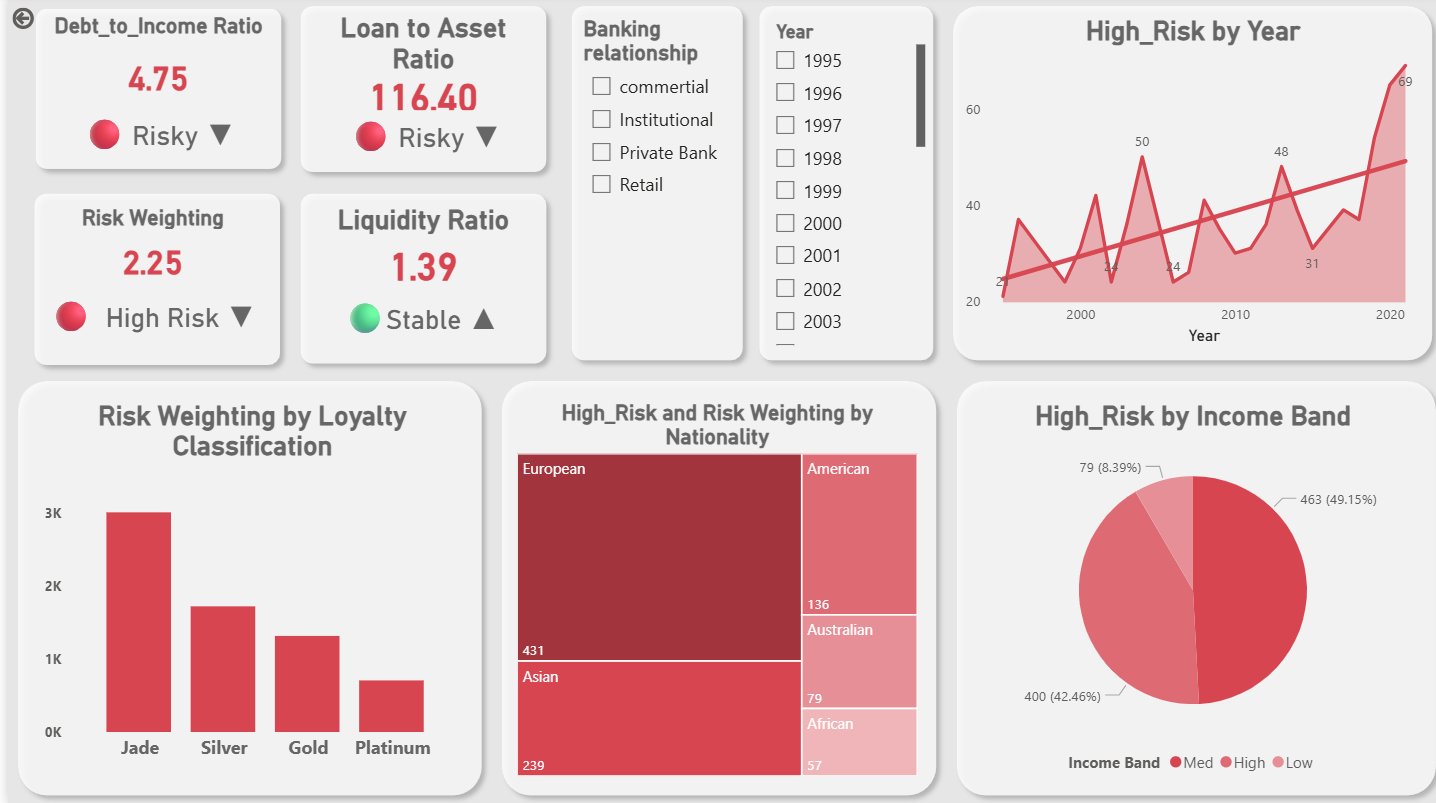

What the dashboard file says about the page in this screenshot:
{"tool":"powerbi","page":{"name":"Risk Analysis","canvas":[1280,720],"ordinal":1},"visuals":[{"type":"shape","box":[0,333.4,430.9,387],"z":0},{"type":"shape","box":[430.9,333.4,404.8,387],"z":1000},{"type":"shape","box":[832.9,0,444.6,333.4],"z":2000},{"type":"shape","box":[15.9,2.5,236.8,160.7],"z":3000,"group":"g3"},{"type":"shape","box":[835.7,333.4,444.6,387],"z":3000},{"type":"columnChart","title":"Risk Weighting by Loyalty Classification","fields":{"Y":["Sum(bank_risk_data (1).Risk Weighting)"],"Category":["bank_risk_data (1).Loyalty Classification"]},"box":[27.4,359.5,380.1,332.1],"z":4000},{"type":"treemap","title":" High_Risk and Risk Weighting by Nationality","fields":{"Group":["bank_risk_data (1).Nationality"],"Values":["Sum(bank_risk_data (1).High_Risk)"]},"box":[448.7,359.5,366.4,340.3],"z":5000},{"type":"pieChart","title":" High_Risk by Income Band","fields":{"Y":["Sum(bank_risk_data (1).High_Risk)"],"Category":["bank_risk_data (1).Income Band"]},"box":[848,359.5,414.4,341.7],"z":6000},{"type":"shape","box":[492.6,0,170.2,333.4],"z":7000},{"type":"shape","box":[251.5,0,236.8,165.6],"z":8000},{"type":"shape","box":[14.7,166.9,236.8,170.6],"z":8000,"group":"g1"},{"type":"card","title":"Loan to Asset Ratio","fields":{"Values":["bank_risk_data (1).Loan to Asset Ratio"]},"box":[269.9,14.7,201.2,92],"z":9000},{"type":"shape","box":[251.5,166.9,236.8,169.3],"z":9000,"group":"g2"},{"type":"lineChart","title":" High_Risk by Year","fields":{"Category":["bank_risk_data (1).Joined Bank.Variation.Date Hierarchy.Year"],"Y":["Sum(bank_risk_data (1).High_Risk)"]},"box":[848,16.5,414.4,299.1],"z":10000},{"type":"card","title":"Debt_to_Income Ratio","fields":{"Values":["Avg(bank_risk_data (1).Debt_to_Income)"]},"box":[33.1,16,203.7,90.8],"z":11000,"group":"g3"},{"type":"slicer","title":"Banking relationship","fields":{"Values":["bank_risk_data (1).BRId"]},"box":[507.7,17.8,141.3,285.4],"z":11000},{"type":"shape","box":[660,0,172.9,333.4],"z":12000},{"type":"slicer","fields":{"Values":["bank_risk_data (1).Joined Bank.Variation.Date Hierarchy.Year"]},"box":[671,16.5,150.9,299.1],"z":13000},{"type":"card","title":"Liquidity Ratio","fields":{"Values":["Median(bank_risk_data (1).Liquidity_Ratio)"]},"box":[260.5,185.1,219.1,79.5],"z":13000,"group":"g2"},{"type":"group","id":"g1","title":"Group 1","box":[14.7,166.9,236.8,170.6],"z":14000},{"type":"card","title":"Risk Weighting ","fields":{"Values":["Avg(bank_risk_data (1).Risk Weighting)"]},"box":[30.9,186.2,195.8,78.8],"z":14000,"group":"g1"},{"type":"card","fields":{"Values":["bank_risk_data (1).Risk_Weighting_Status"]},"box":[29.4,258.9,201.2,52.8],"z":15000},{"type":"card","fields":{"Values":["bank_risk_data (1).Loan_to_Asset_Status"]},"box":[294.5,105.5,154.6,39.3],"z":16000},{"type":"card","fields":{"Values":["bank_risk_data (1).Debt_to_Income_Status"]},"box":[28.1,97.6,208.6,54],"z":17000,"group":"g3"},{"type":"group","id":"g2","title":"Group 2","box":[251.5,166.9,236.8,169.3],"z":17000},{"type":"group","id":"g3","title":"Group 4","box":[15.9,2.5,236.8,160.7],"z":18000},{"type":"actionButton","box":[0,0,27,40.5],"z":19000},{"type":"card","fields":{"Values":["bank_risk_data (1).Liquidity_Ratio_Status"]},"box":[288.6,257,160.3,60.6],"z":19003,"group":"g2"}]}

Visuals, with their boxes in screenshot pixels (x1, y1, x2, y2), scaled from the page's 1280x720 canvas onto the 1436x803 screenshot:
shape: [0,372,483,802]
shape: [483,372,938,802]
shape: [934,0,1433,372]
shape: [18,3,283,182]
shape: [938,372,1435,802]
"Risk Weighting by Loyalty Classification" columnChart: [31,401,457,771]
" High_Risk and Risk Weighting by Nationality" treemap: [503,401,914,780]
" High_Risk by Income Band" pieChart: [951,401,1416,782]
shape: [553,0,744,372]
shape: [282,0,548,185]
shape: [16,186,282,376]
"Loan to Asset Ratio" card: [303,16,529,119]
shape: [282,186,548,375]
" High_Risk by Year" lineChart: [951,18,1416,352]
"Debt_to_Income Ratio" card: [37,18,266,119]
"Banking relationship" slicer: [570,20,728,338]
shape: [740,0,934,372]
slicer - bank_risk_data (1).Joined Bank.Variation.Date Hierarchy.Year: [753,18,922,352]
"Liquidity Ratio" card: [292,206,538,295]
"Group 1" group: [16,186,282,376]
"Risk Weighting " card: [35,208,254,296]
card - bank_risk_data (1).Risk_Weighting_Status: [33,289,259,348]
card - bank_risk_data (1).Loan_to_Asset_Status: [330,118,504,161]
card - bank_risk_data (1).Debt_to_Income_Status: [32,109,266,169]
"Group 2" group: [282,186,548,375]
"Group 4" group: [18,3,283,182]
actionButton: [0,0,30,45]
card - bank_risk_data (1).Liquidity_Ratio_Status: [324,287,504,354]
